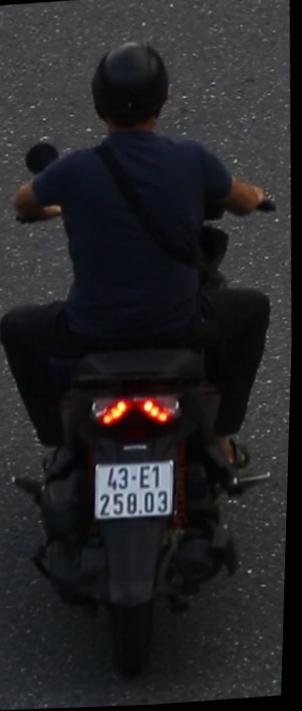LP: (93, 452, 184, 526)
helmet: (86, 35, 176, 145)
